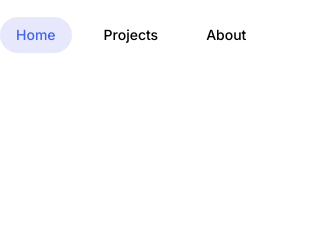
Test: Navbar › Dropdown Menus › Home link has dropdown items
This screenshot has width=320, height=232.
Hover over the link "Home" at (36, 35), box [0,17,72,53]
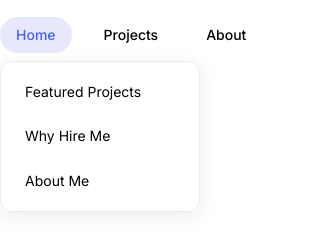
expect the text "Featured Projects" is shown: met, box [25,83,141,100]
expect the text "Why Hire Me" is shown: met, box [25,127,110,144]
expect the text "About Me" is shown: met, box [25,172,89,189]
